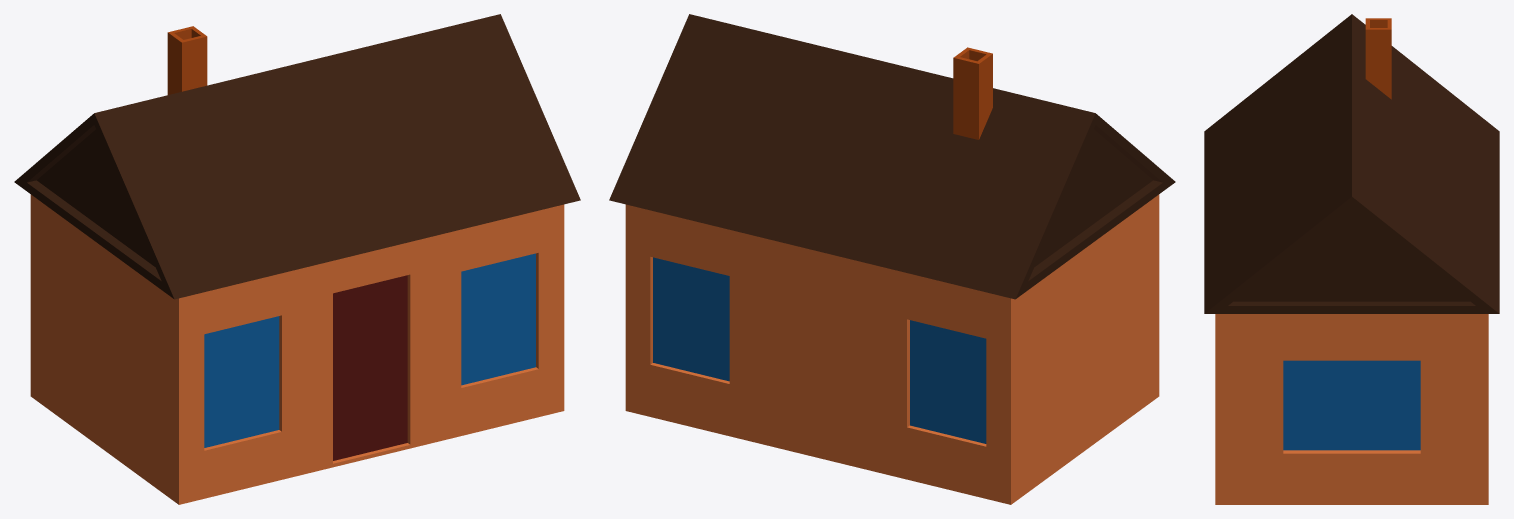
The model's file is House 2.FBX.
3 renders of one model, left to right at view 1: azimuth 30°, elevation 25°; view 2: azimuth 150°, elevation 25°; view 3: azimuth 270°, elevation 25°, orthographic. The views are drawn at different scales.
Visible parts, largest first — view 1: House 2; view 2: House 2; view 3: House 2.
Part boxes in pixels (x1=…): House 2: x1=14, y1=14, x2=580, y2=504; House 2: x1=609, y1=14, x2=1175, y2=504; House 2: x1=1204, y1=14, x2=1499, y2=504.
Size of the model in its own units: 31.64 by 28.42 by 21.64.
